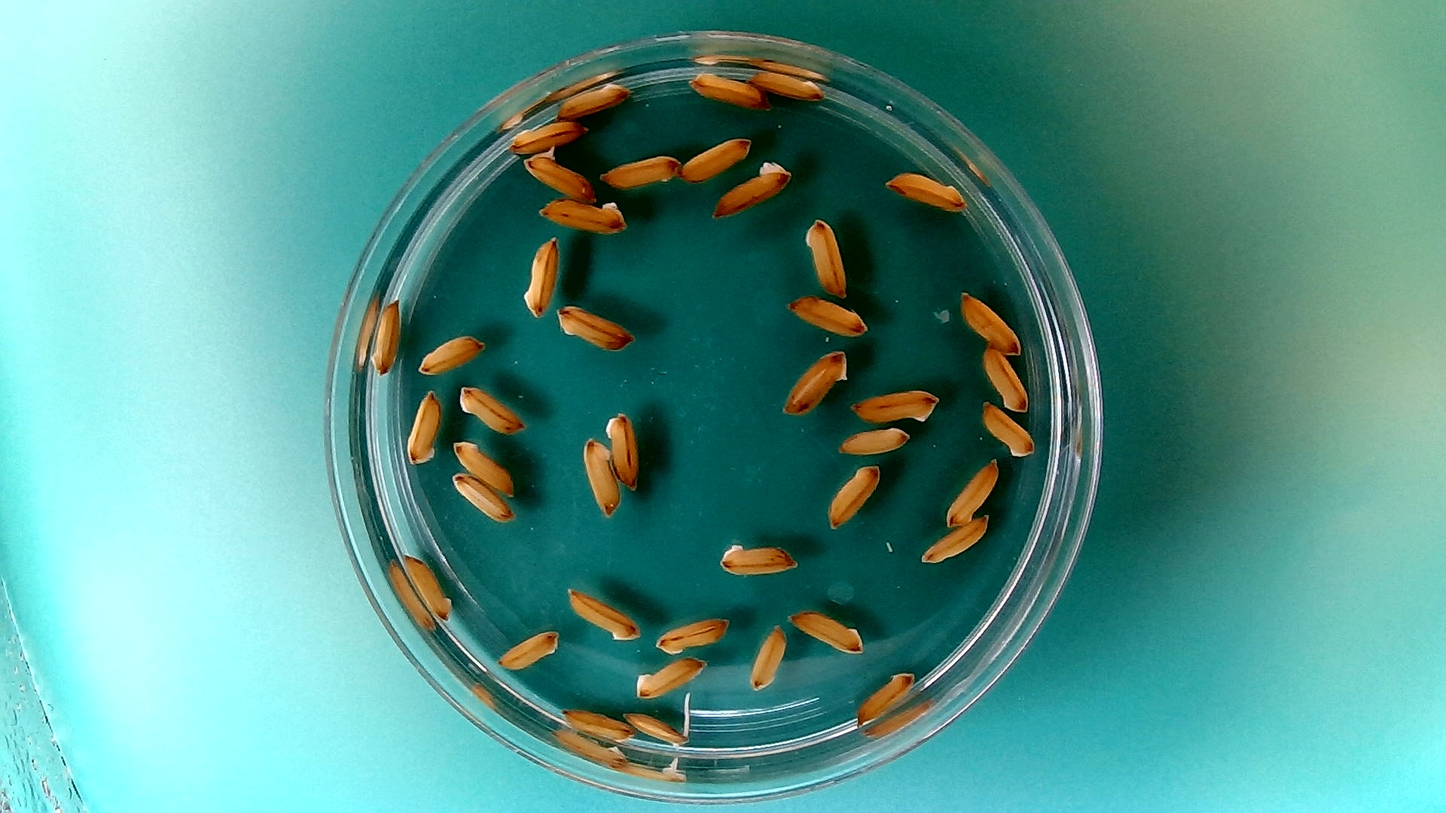no: (777, 345, 853, 419), (707, 156, 794, 220), (562, 584, 643, 644), (956, 287, 1023, 354), (574, 431, 622, 520), (802, 213, 850, 299), (786, 605, 866, 656), (553, 303, 636, 352), (943, 455, 999, 527), (450, 436, 517, 496), (824, 459, 881, 529), (456, 382, 528, 437), (677, 131, 753, 183), (918, 513, 991, 565), (882, 167, 968, 211), (784, 292, 870, 336), (402, 548, 453, 621), (848, 385, 941, 425), (535, 195, 628, 235), (630, 653, 709, 700), (520, 233, 562, 321), (449, 468, 516, 522), (980, 343, 1030, 414), (854, 668, 917, 724), (715, 536, 801, 577), (979, 398, 1036, 458), (599, 150, 682, 190), (404, 385, 444, 468), (554, 77, 633, 119), (556, 704, 638, 744), (654, 614, 732, 656), (603, 407, 642, 491), (416, 329, 487, 375), (686, 68, 767, 108), (746, 621, 789, 693), (493, 626, 561, 671), (507, 117, 590, 153), (368, 295, 404, 376), (746, 66, 827, 102), (834, 423, 911, 455)
yes: (519, 146, 597, 202), (623, 708, 695, 751)
